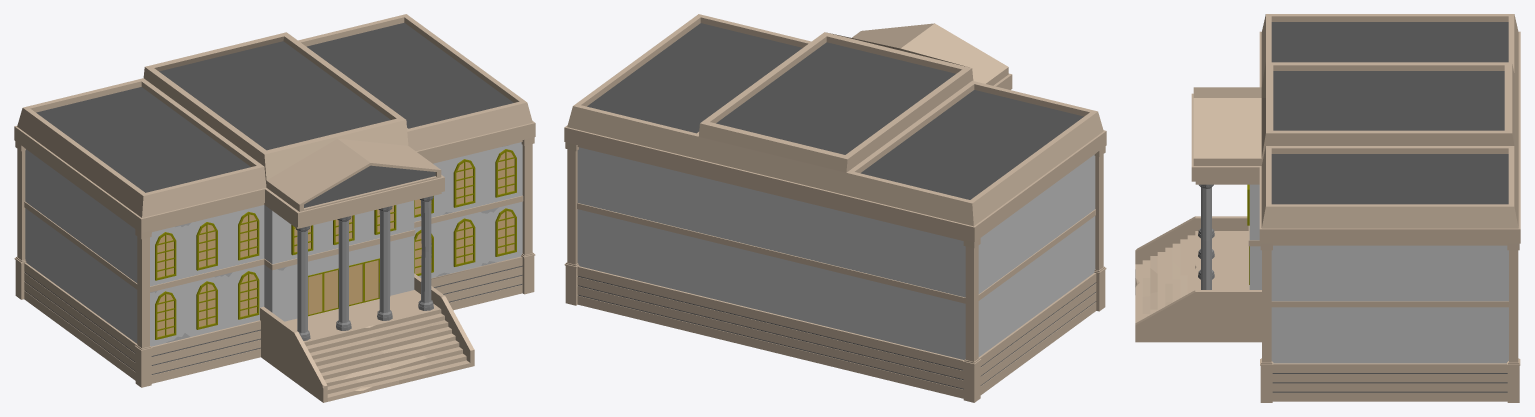
File: CityHall_01.fbx
3 renders of one model, left to right at view 1: azimuth 30°, elevation 25°; view 2: azimuth 150°, elevation 25°; view 3: azimuth 270°, elevation 25°, orthographic. The views are drawn at different scales.
Visible parts, largest first — view 1: CityHall_01; view 2: CityHall_01; view 3: CityHall_01.
Boxes of the visible parts, left/top/right/bottom form: CityHall_01: left=14, top=14, right=535, bottom=402; CityHall_01: left=564, top=14, right=1106, bottom=402; CityHall_01: left=1135, top=14, right=1520, bottom=402.
Bounding box in the file's own units: 2260 × 1100 × 1860.
